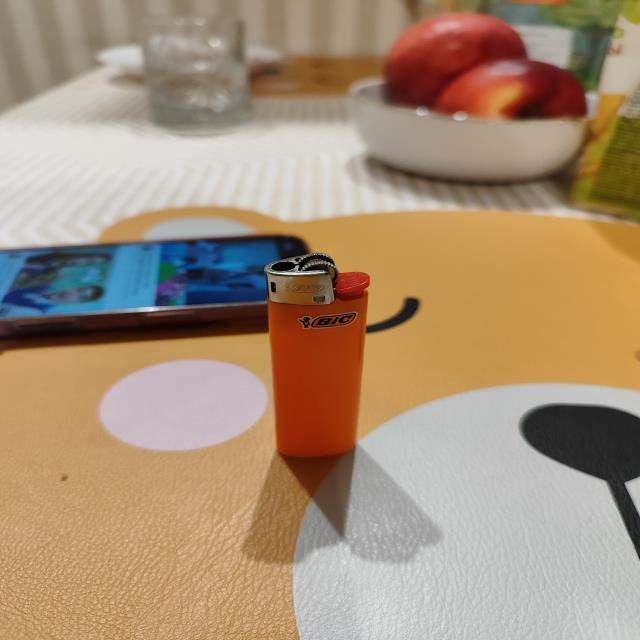lighter: (267, 253, 370, 457)
